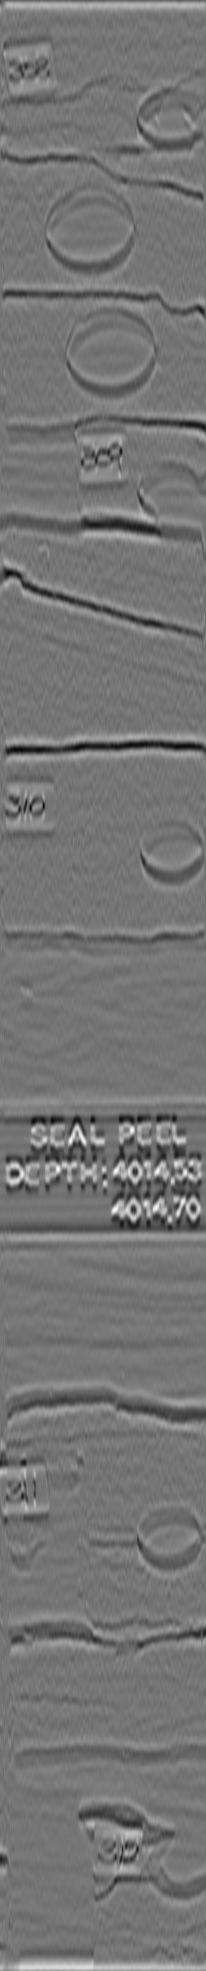hplug: (132, 1500, 206, 1576), (132, 85, 206, 157), (136, 815, 206, 889), (132, 458, 206, 525), (144, 1829, 206, 1907)
scal: (62, 305, 163, 404), (40, 182, 138, 278)
vplug: (20, 1451, 98, 1655)
